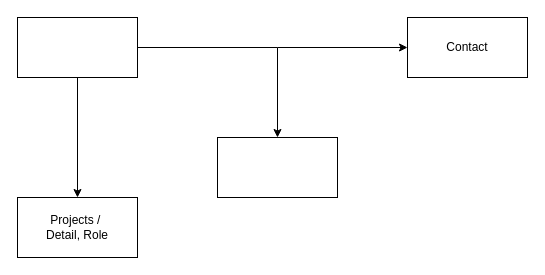
This 545x275 diagram has some shape labels left out. The centre of each missing label's shape, as x and y in pixels:
Home / About Me: the point at 77,47
Musings: the point at 277,167
